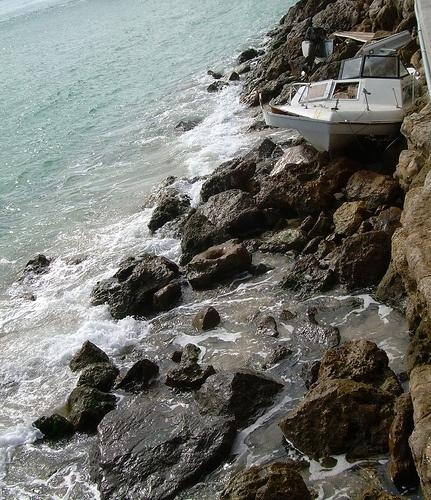boat: (259, 30, 421, 154)
